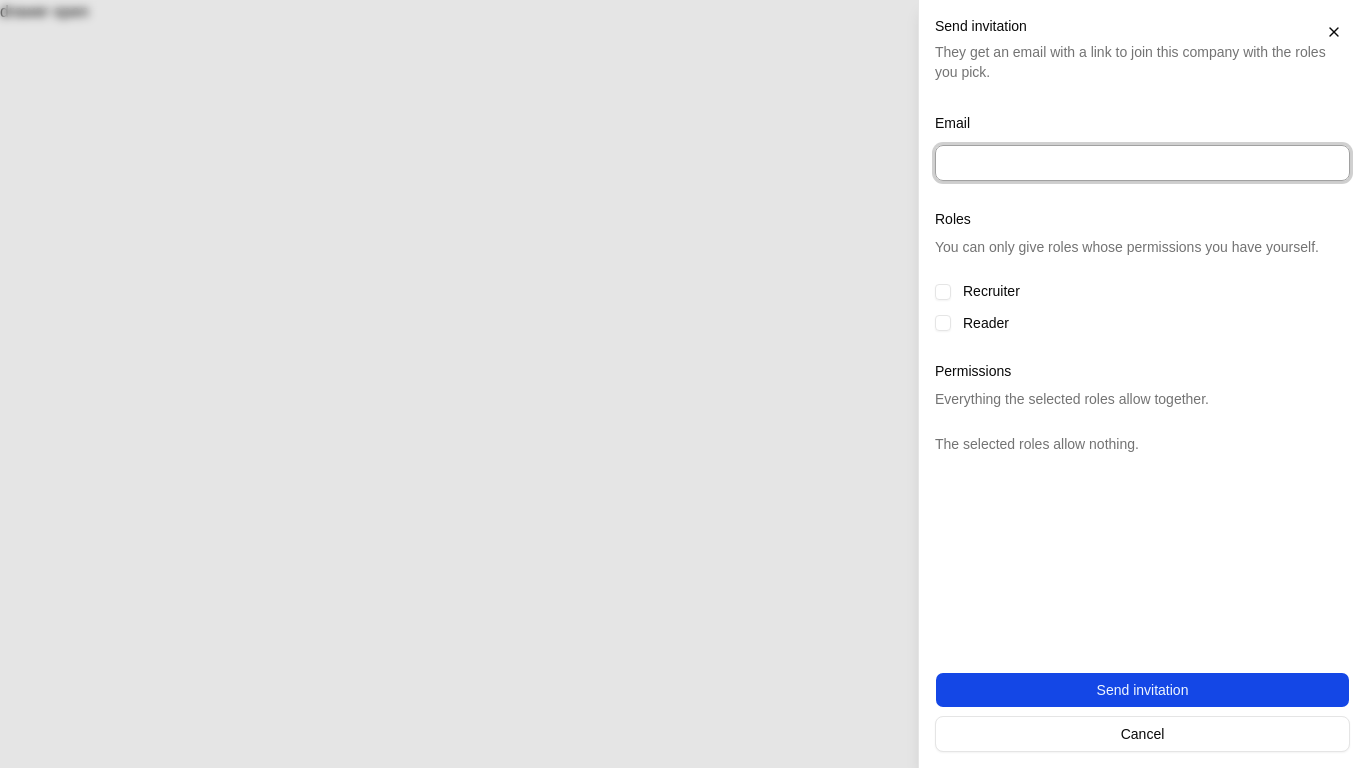
it: InviteDrawer › shows the permissions of the chosen roles added together
This screenshot has width=1366, height=768.
Expected: the text "The selected roles allow nothing." is shown, [935,436,1139,452]
Step 1. Click the checkbox named "Recruiter" next to "Recruiter" → (943, 292), box [935,284,951,300]
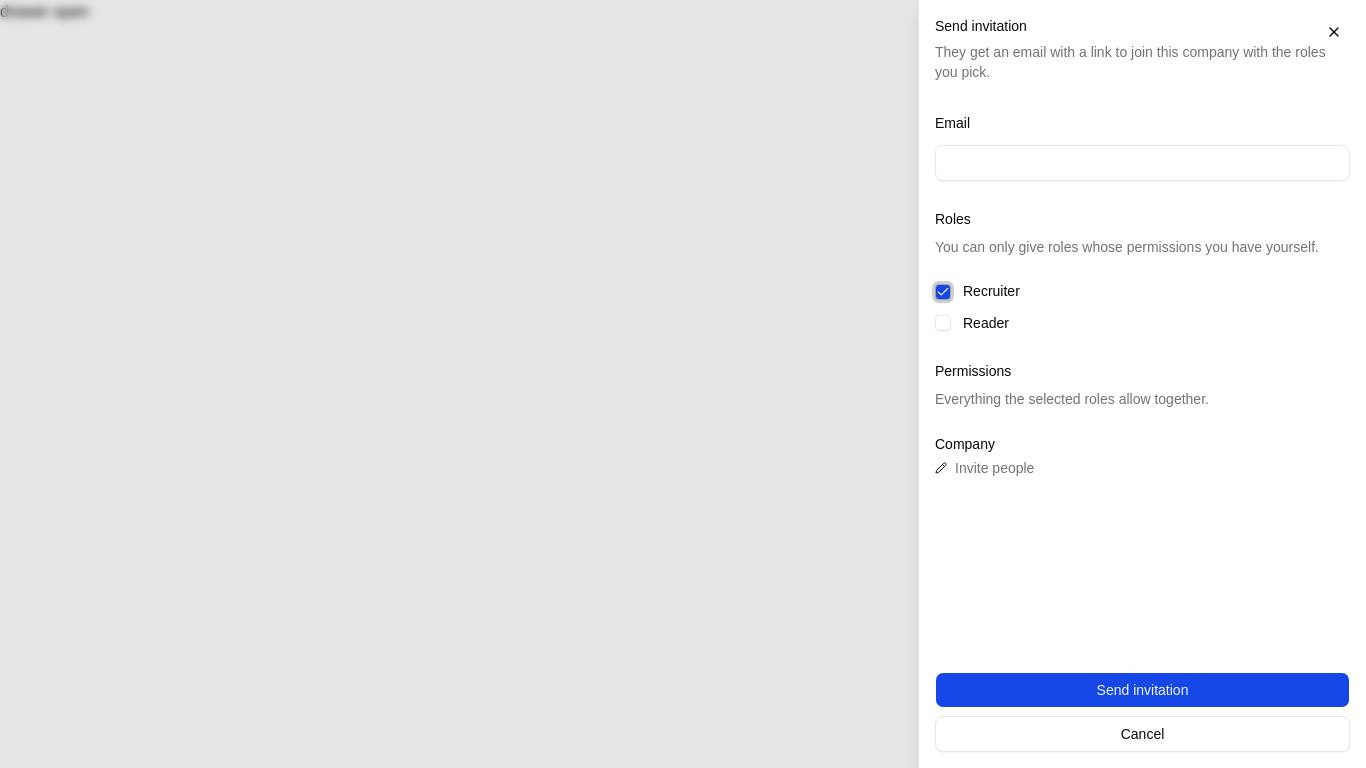
Expected: the text "View roles" is not shown
Now the list item "Invite people" is shown, box [935,460,1034,476]
Step 2. Click the checkbox named "Reader" next to "Reader" → (943, 323), box [935,315,951,331]
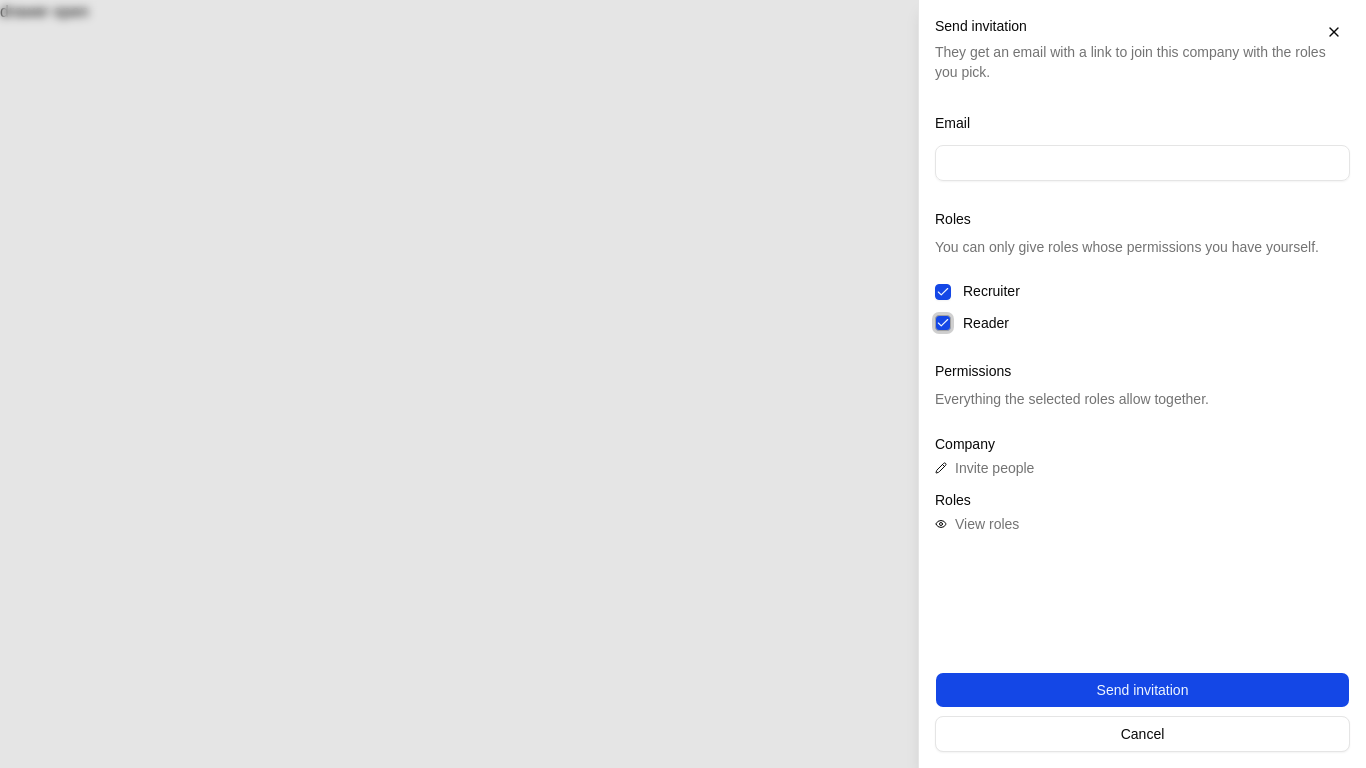
Now the number of list items "Invite people" is 1, box [935,460,1034,476]
Now the list item "View roles" is shown, box [935,516,1019,532]
